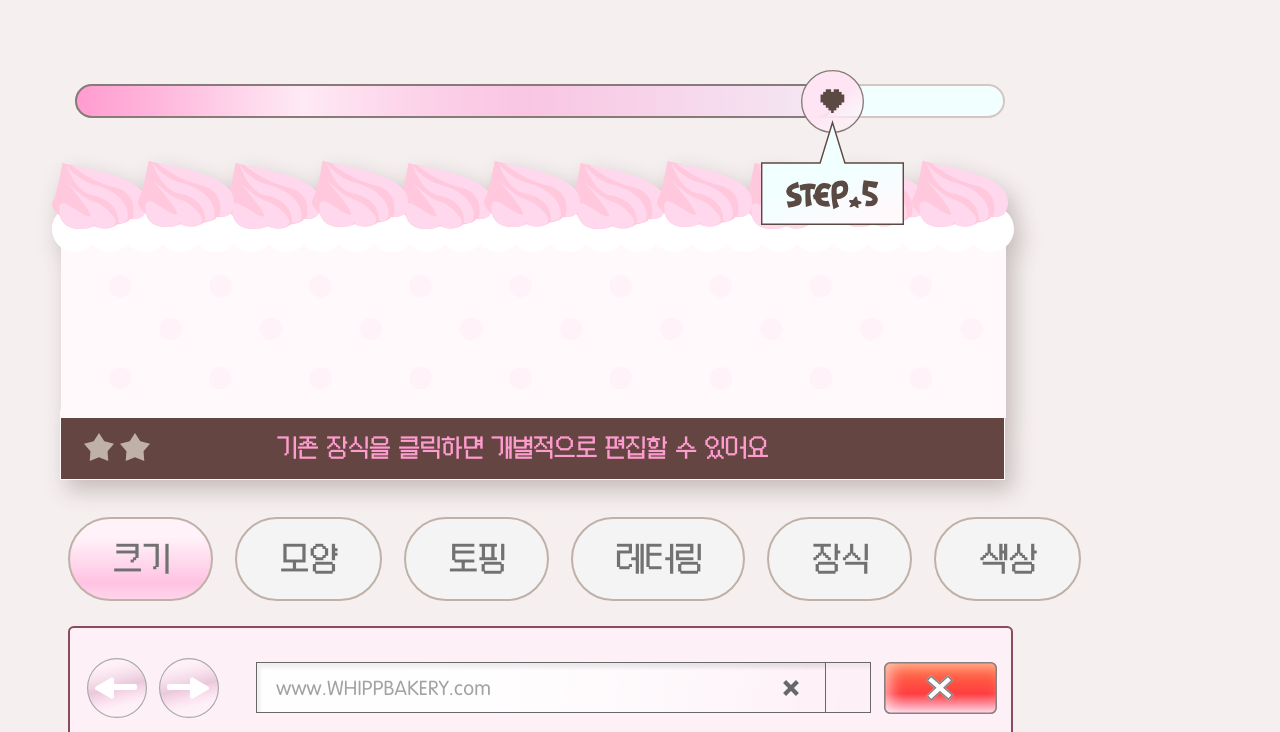
Test case: EditorScreen 장식 탭 › 장식을 더하면 그 장식에 조절 상자가 생긴다
Click the tab "장식". click: (840, 558)
box: [767,514,912,602]
(page scrolled)
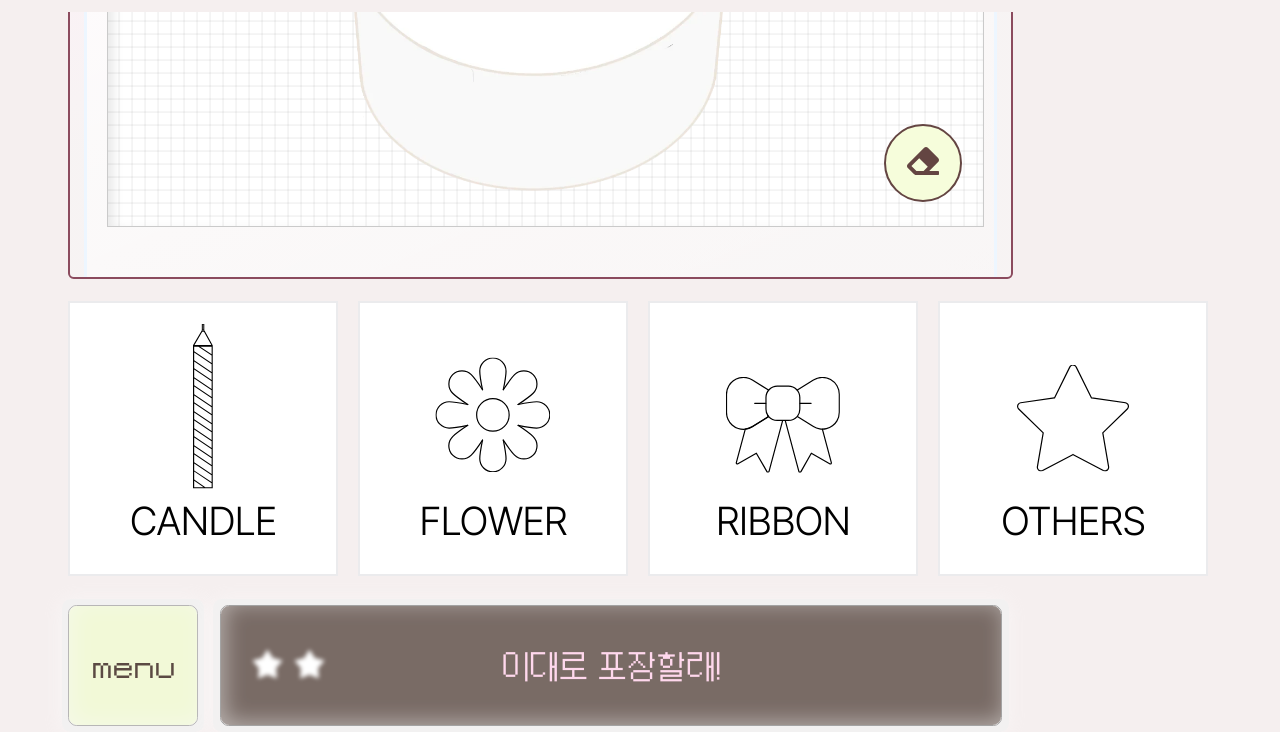
Click the button "CANDLE". click: (203, 438)
box: [68,301,338,576]
Wait 250 ms
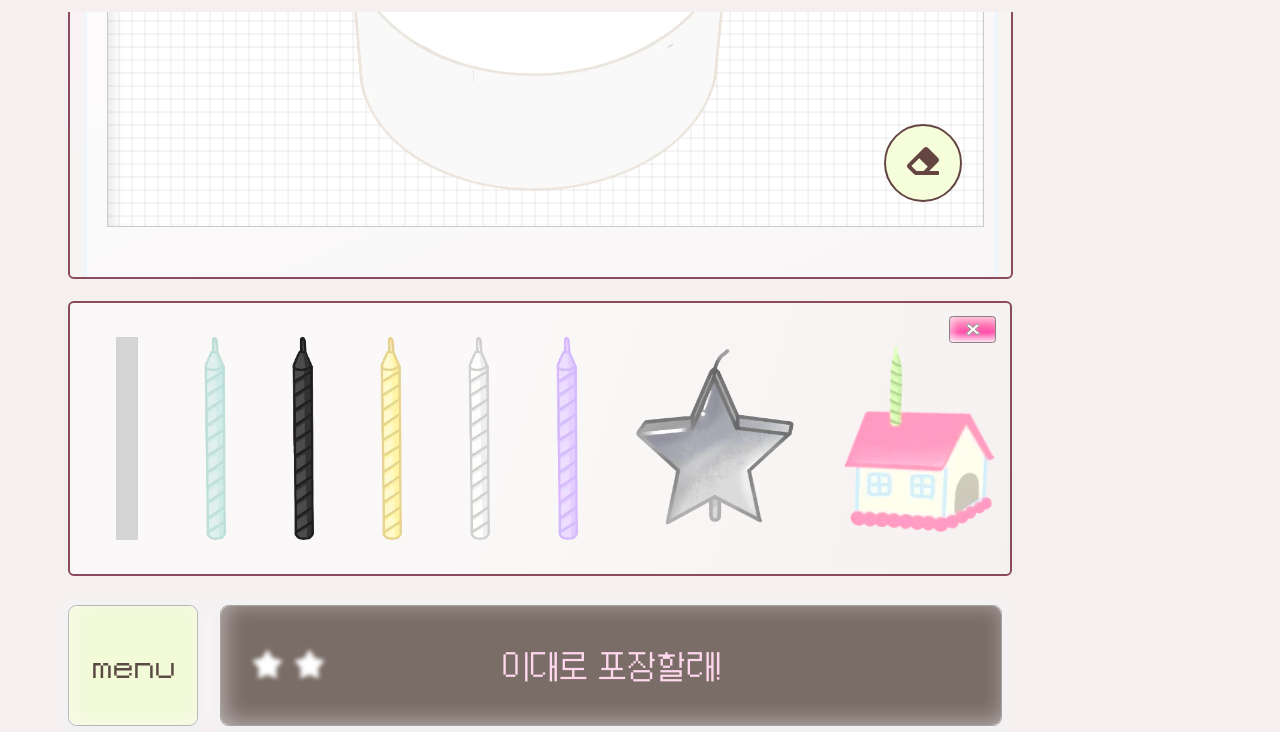
Click the button named "candle-pink". click: (127, 438)
box: [83,303,171,574]
(page scrolled)
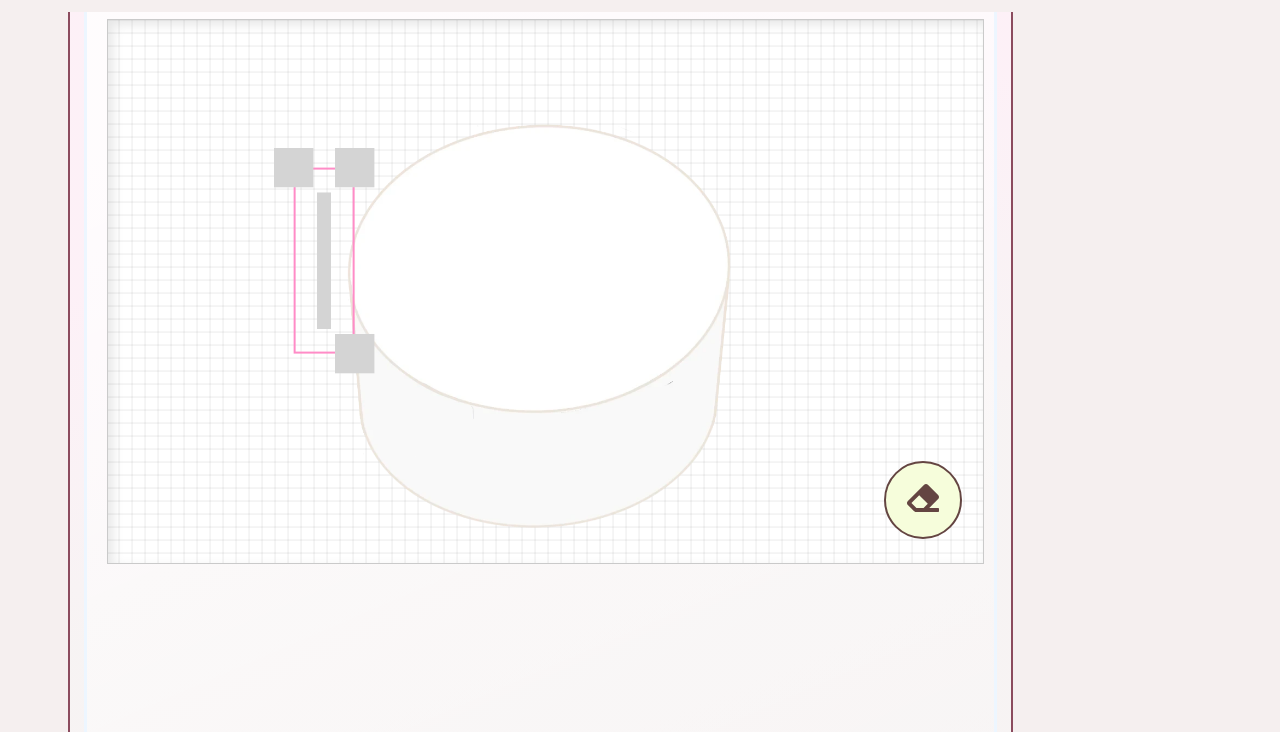
expect the button named "장식 지우기" is shown: met, box [232,106,320,194]
expect the button named "장식 크기 조절" is shown: met, box [328,106,416,194]
expect the button named "장식 기울기 조절" is shown: met, box [328,328,416,416]
